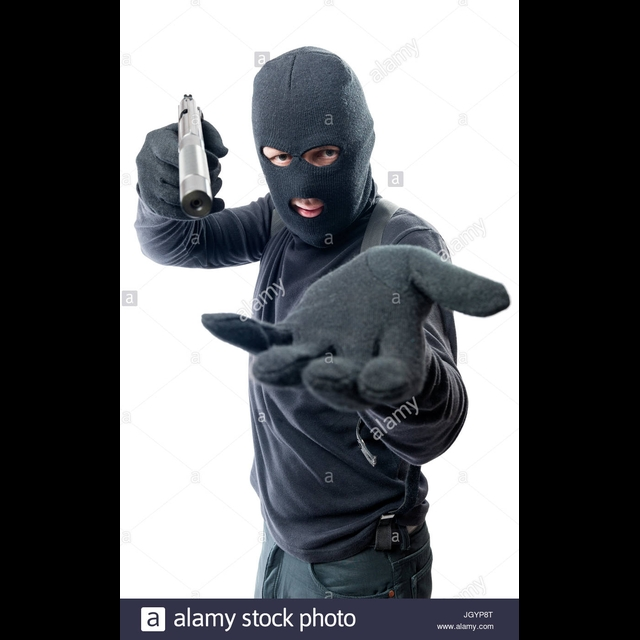SILAH: (134, 86, 241, 240)
